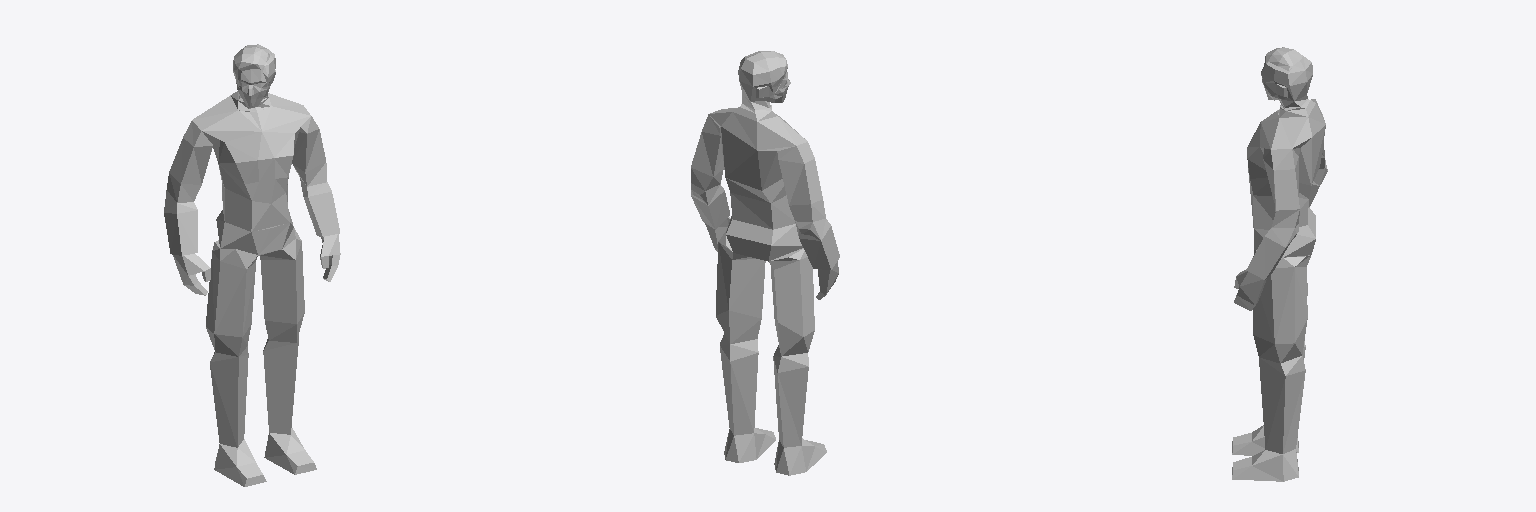
Rendered from Manuel104.obj.
3 renders of one model, left to right at view 1: azimuth 30°, elevation 25°; view 2: azimuth 150°, elevation 25°; view 3: azimuth 270°, elevation 25°, orthographic.
Visible parts, largest first — view 1: leon; view 2: leon; view 3: leon.
Boxes of the visible parts, x1=… form: leon: x1=164, y1=44, x2=340, y2=486; leon: x1=691, y1=51, x2=839, y2=475; leon: x1=1232, y1=47, x2=1327, y2=481.
Bounding box in the file's own units: 4.62 × 12.19 × 2.57.